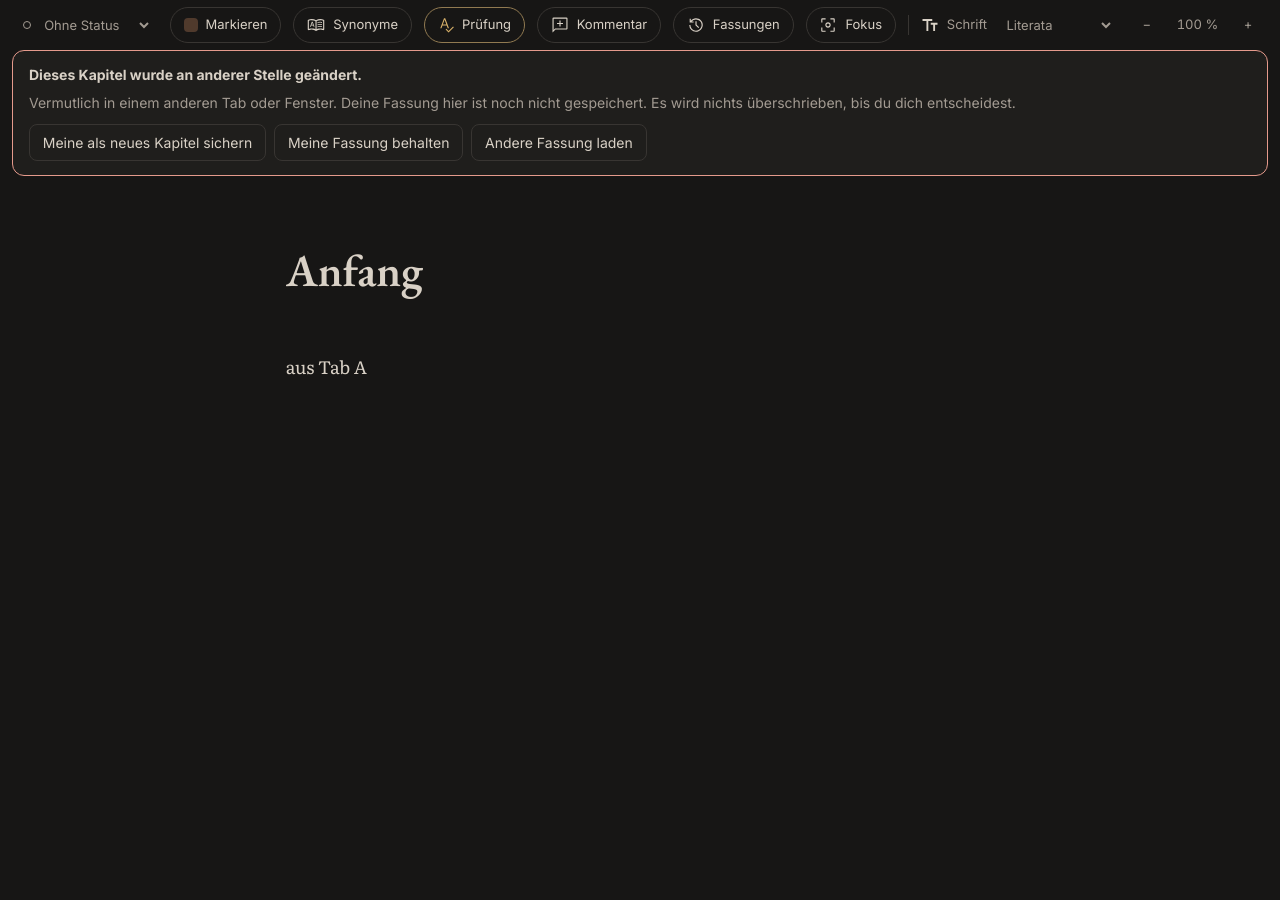
Test case: a second tab cannot be overwritten silently
Check: the text "Dieses Kapitel wurde an anderer Stelle geändert." is shown, box [29,66,362,83]
Click the button "Andere Fassung laden" at (559, 142), box [471,124,647,161]
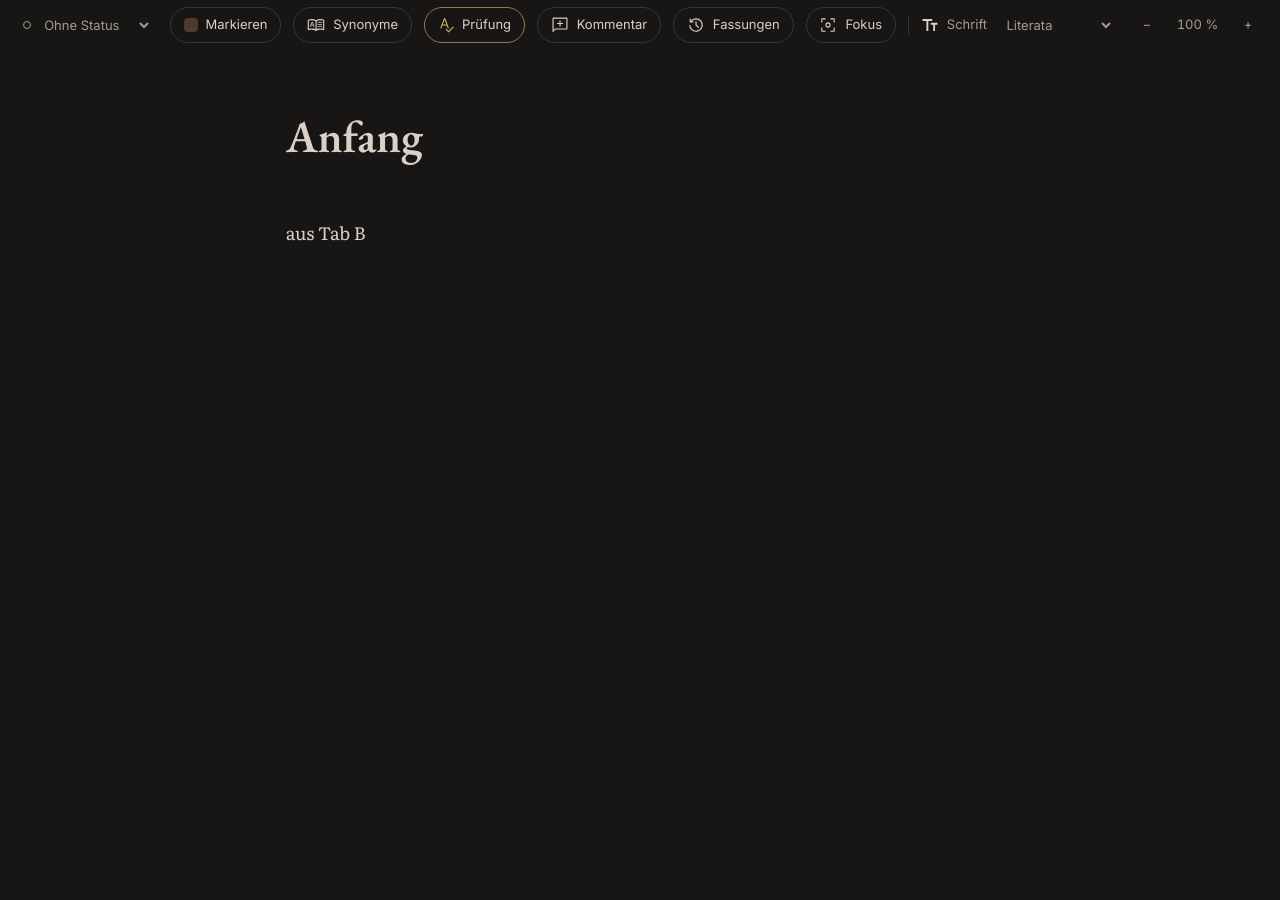
Check: the text "Dieses Kapitel wurde an anderer Stelle geändert." is gone
Check: the text box labelled "aus Tab B" is shown, box [286,219,366,246]
